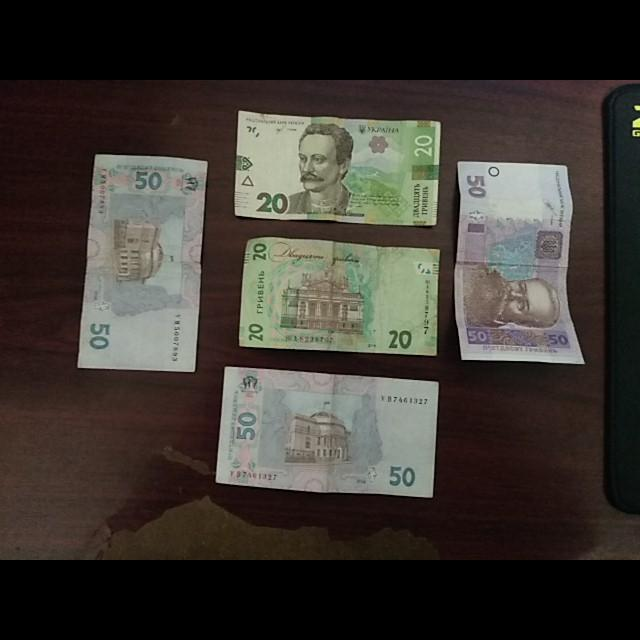20uah: (235, 111, 441, 226), (240, 238, 441, 354)
50uah: (215, 367, 438, 498), (77, 155, 207, 372), (455, 161, 588, 364)
